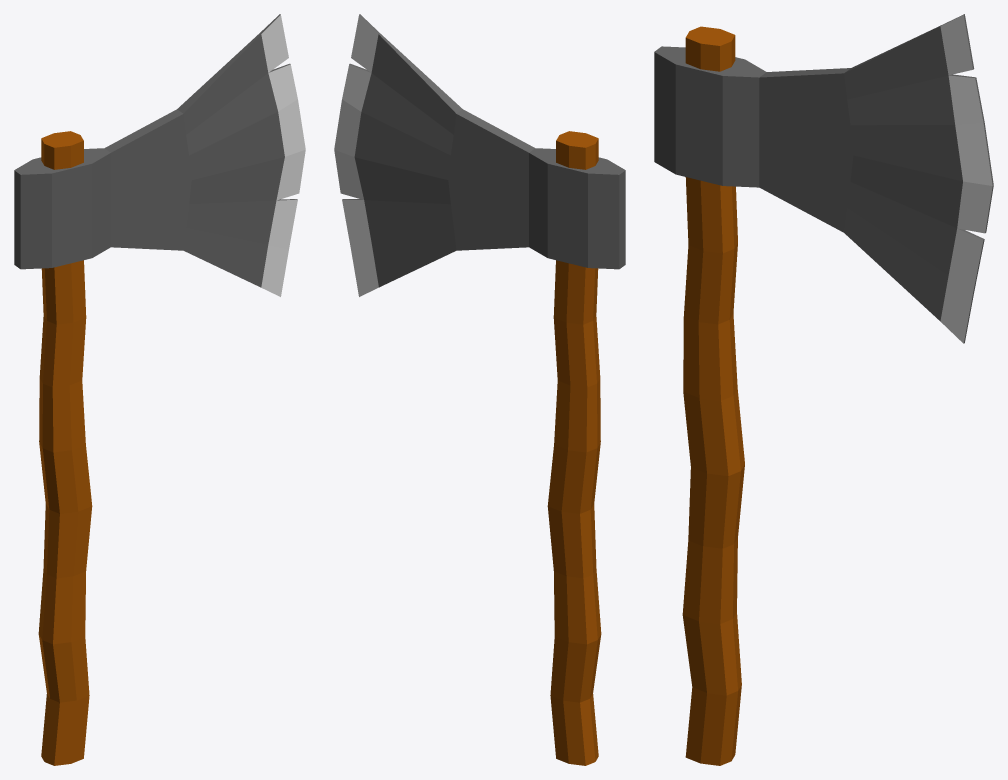
The model's file is StandardAxe.fbx.
The picture shows the model from 3 angles, left to right: view 1: azimuth 30°, elevation 25°; view 2: azimuth 150°, elevation 25°; view 3: azimuth 330°, elevation 25°; orthographic projection. The views are drawn at different scales.
Visible parts, largest first — view 1: Plane; view 2: Plane; view 3: Plane.
Boxes of the visible parts, x1,y1,x2,y2 form: Plane: (14,14,305,765); Plane: (334,14,625,765); Plane: (654,14,993,765).
Size of the model in its own units: 638 by 1460 by 74.11.
